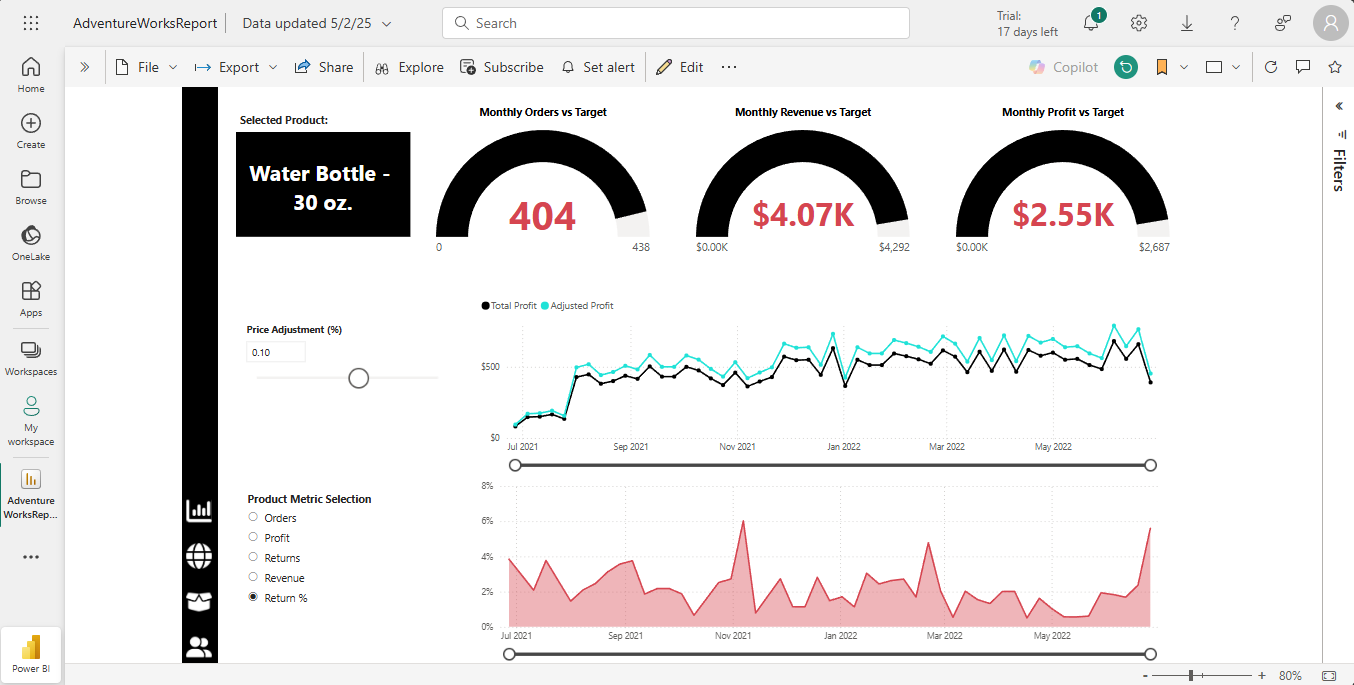

What the dashboard file says about the page in this screenshot:
{"tool":"powerbi","page":{"name":"Product Details","canvas":[1280,720],"ordinal":2},"visuals":[{"type":"shape","box":[0,0,45,720.2],"z":0},{"type":"actionButton","box":[1.1,510,45,40],"z":1000,"group":"g1"},{"type":"gauge","title":"Monthly Orders vs Target","fields":{"Y":["Measure Table.Total Orders"],"MaxValue":["Measure Table.Order Target"]},"box":[312.5,22.5,277.5,206.2],"z":1000},{"type":"gauge","title":"Monthly Revenue vs Target","fields":{"Y":["Measure Table.Total Revenue"],"MaxValue":["Measure Table.Target Revenue"]},"box":[637.5,22.5,277.5,206.2],"z":2000},{"type":"actionButton","box":[1.1,566.7,45,40],"z":2000,"group":"g1"},{"type":"gauge","title":"Monthly Profit vs Target","fields":{"Y":["Measure Table.Total Profit"],"MaxValue":["Measure Table.Profit Target"]},"box":[962.5,22.5,277.5,206.2],"z":3000},{"type":"actionButton","box":[1.1,623.3,45,40],"z":3000,"group":"g1"},{"type":"actionButton","box":[1.1,680,45,40],"z":4000,"group":"g1"},{"type":"lineChart","title":"Profit Trend","fields":{"Category":["Calendar Lookup.Date Hierarchy.Start of Year","Calendar Lookup.Date Hierarchy.Start of Month","Calendar Lookup.Date Hierarchy.Start of Week","Calendar Lookup.Date Hierarchy.Date"],"Y":["Measure Table.Total Profit","Measure Table.Adjusted Profit"]},"box":[368.8,253.8,871.2,230],"z":4000},{"type":"areaChart","title":"Return Trend","fields":{"Category":["Calendar Lookup.Date Hierarchy.Start of Year","Calendar Lookup.Date Hierarchy.Start of Month","Calendar Lookup.Date Hierarchy.Start of Week","Calendar Lookup.Date Hierarchy.Date"],"Y":["Measure Table.Return Rate"]},"box":[369.3,485.5,870.7,234.8],"z":5000},{"type":"card","fields":{"Values":["Min(Product Lookup.ProductName)"]},"box":[67.5,56.2,217.5,131.2],"z":6000},{"type":"textbox","box":[67.5,27.5,132.5,35],"z":7000},{"type":"group","id":"g1","title":"Page Nav Buttons","box":[1.1,510,45,210],"z":8000},{"type":"slicer","fields":{"Values":["Price Adjustment (%).Price Adjustment (%)"]},"box":[67.3,289.8,275.1,118.6],"z":9000},{"type":"slicer","fields":{"Values":["Product Metric Selection.Product Metric Selection"]},"box":[68.5,501.4,273.9,170],"z":9001}]}

Visuals, with their boxes on the page's 1280x720 design canvas (x1, y1, x2, y2). These are canvas units, not pixel positions in the 1354x685 screenshot, which may show the page scaled, cropped or inside an application window:
shape: <bbox>0, 0, 45, 720</bbox>
actionButton: <bbox>1, 510, 46, 550</bbox>
"Monthly Orders vs Target" gauge: <bbox>312, 22, 590, 229</bbox>
"Monthly Revenue vs Target" gauge: <bbox>638, 22, 915, 229</bbox>
actionButton: <bbox>1, 567, 46, 607</bbox>
"Monthly Profit vs Target" gauge: <bbox>962, 22, 1240, 229</bbox>
actionButton: <bbox>1, 623, 46, 663</bbox>
actionButton: <bbox>1, 680, 46, 720</bbox>
"Profit Trend" lineChart: <bbox>369, 254, 1240, 484</bbox>
"Return Trend" areaChart: <bbox>369, 486, 1240, 720</bbox>
card - Min(Product Lookup.ProductName): <bbox>68, 56, 285, 187</bbox>
textbox: <bbox>68, 28, 200, 62</bbox>
"Page Nav Buttons" group: <bbox>1, 510, 46, 720</bbox>
slicer - Price Adjustment (%).Price Adjustment (%): <bbox>67, 290, 342, 408</bbox>
slicer - Product Metric Selection.Product Metric Selection: <bbox>68, 501, 342, 671</bbox>
